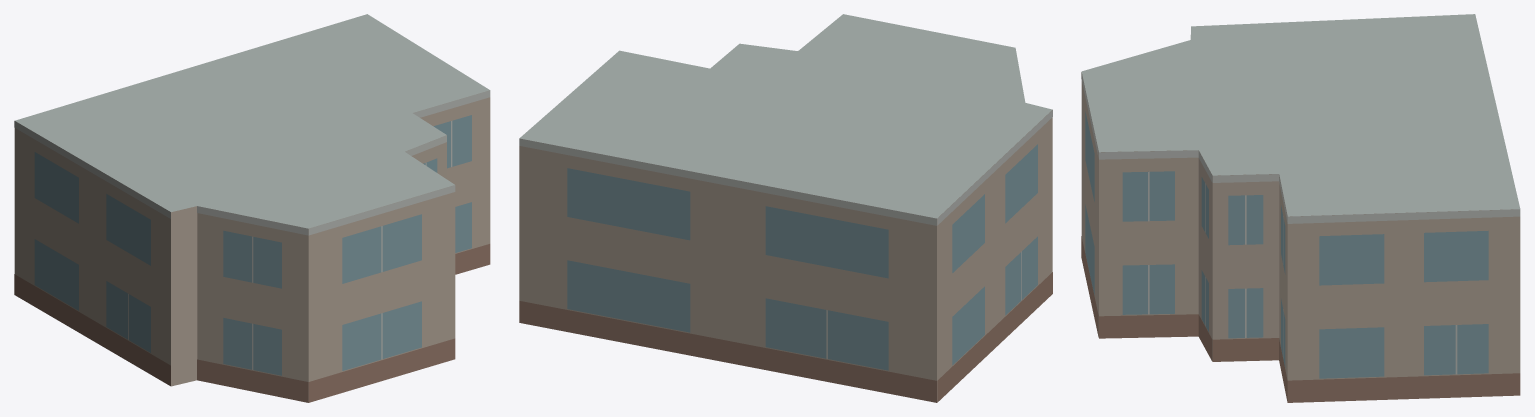
Rendered from survey-upis-32960050.glb.
3 views of the same model, side by side, from view 1: azimuth 30°, elevation 25°; view 2: azimuth 150°, elevation 25°; view 3: azimuth 270°, elevation 25° (orthographic). The views are drawn at different scales.
Visible parts, largest first — view 1: survey-upis-32960050.tmp; view 2: survey-upis-32960050.tmp; view 3: survey-upis-32960050.tmp.
Part boxes in pixels (x1,y1,x2,y2): survey-upis-32960050.tmp: [14, 14, 490, 402]; survey-upis-32960050.tmp: [519, 14, 1052, 402]; survey-upis-32960050.tmp: [1081, 14, 1520, 402].
Bounding box in the file's own units: 14.23 × 6.1 × 13.03.
